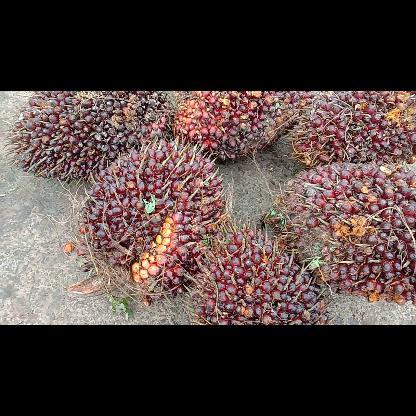Kurang masak: (75, 136, 231, 308), (265, 161, 415, 307), (5, 91, 176, 185), (186, 222, 332, 324), (171, 90, 314, 160), (291, 91, 415, 169)
